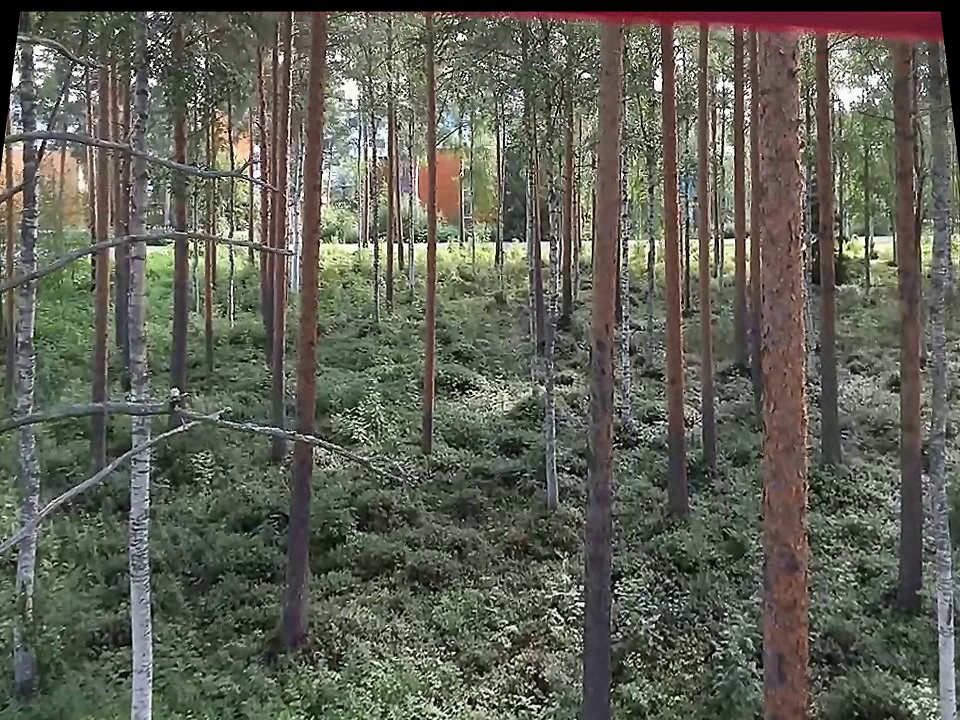branch: (3, 382, 409, 457), (4, 222, 300, 301), (8, 122, 284, 197), (18, 25, 102, 72)
trunk: (263, 22, 345, 641), (749, 45, 819, 712), (560, 36, 629, 703), (112, 22, 162, 715), (875, 47, 934, 609), (651, 45, 698, 530), (12, 35, 47, 640), (409, 16, 452, 470), (811, 44, 841, 487)
